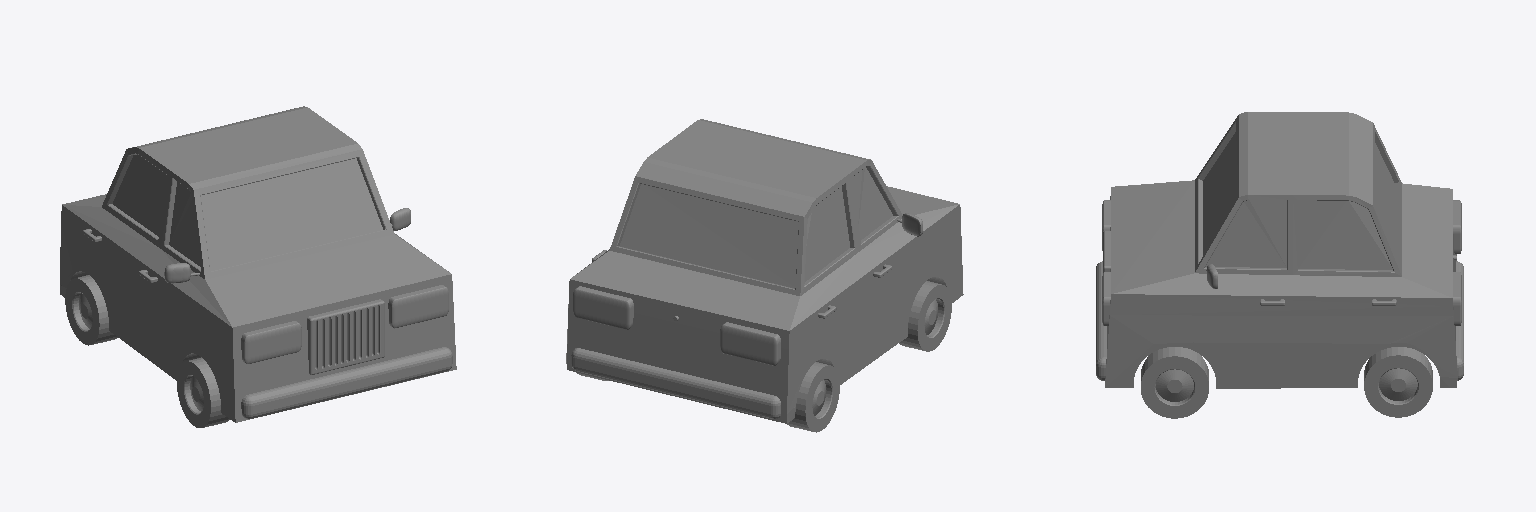
File: carrofeo.obj
The picture shows the model from 3 angles: view 1: azimuth 30°, elevation 25°; view 2: azimuth 150°, elevation 25°; view 3: azimuth 270°, elevation 25°; orthographic projection.
Parts seen in each view (by area): view 1: taxi_Booleana_Cubo; view 2: taxi_Booleana_Cubo; view 3: taxi_Booleana_Cubo.
Boxes of the visible parts, <box> form: taxi_Booleana_Cubo: <box>60,106,456,427</box>; taxi_Booleana_Cubo: <box>566,119,963,432</box>; taxi_Booleana_Cubo: <box>1096,112,1463,418</box>.
Bounding box in the file's own units: 25.16 × 20.39 × 32.72.